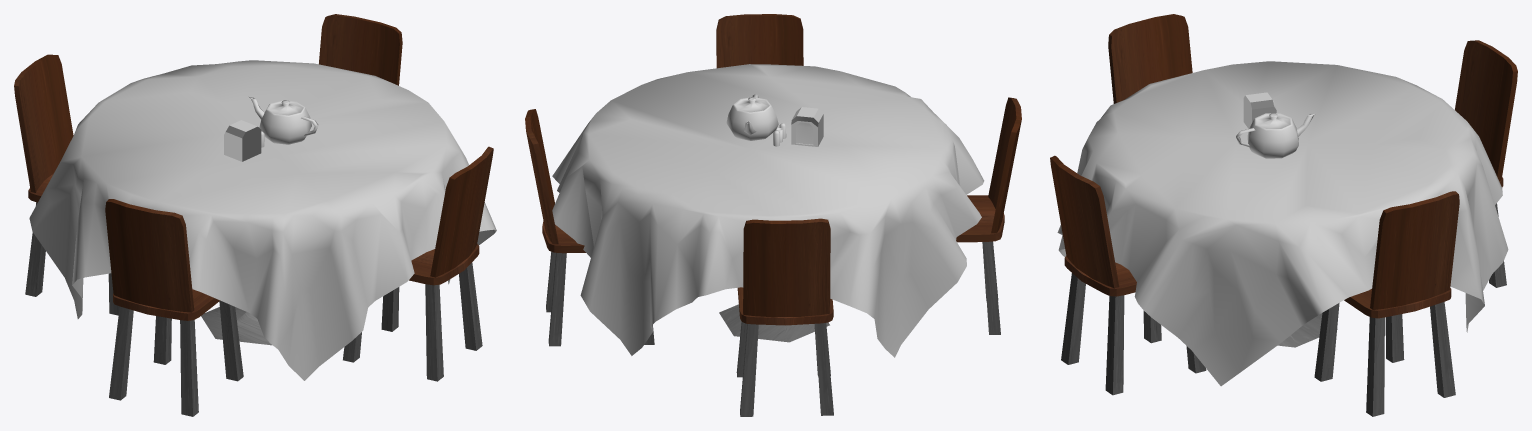
The model's file is street_restaurant_table_circle.FBX.
The picture shows the model from 3 angles, left to right: view 1: azimuth 30°, elevation 25°; view 2: azimuth 150°, elevation 25°; view 3: azimuth 270°, elevation 25°; orthographic projection. The views are drawn at different scales.
Visible parts, largest first — view 1: street_restaurant_table_circle, street_restaurant_cutlery003; view 2: street_restaurant_table_circle, street_restaurant_cutlery003; view 3: street_restaurant_table_circle, street_restaurant_cutlery003.
Boxes of the visible parts, left/top/right/bottom form: street_restaurant_table_circle: left=14, top=14, right=496, bottom=416; street_restaurant_cutlery003: left=224, top=97, right=318, bottom=161; street_restaurant_table_circle: left=525, top=14, right=1021, bottom=416; street_restaurant_cutlery003: left=726, top=94, right=823, bottom=146; street_restaurant_table_circle: left=1050, top=14, right=1517, bottom=416; street_restaurant_cutlery003: left=1236, top=92, right=1315, bottom=158.
Bounding box in the file's own units: 192 × 97.84 × 188.
